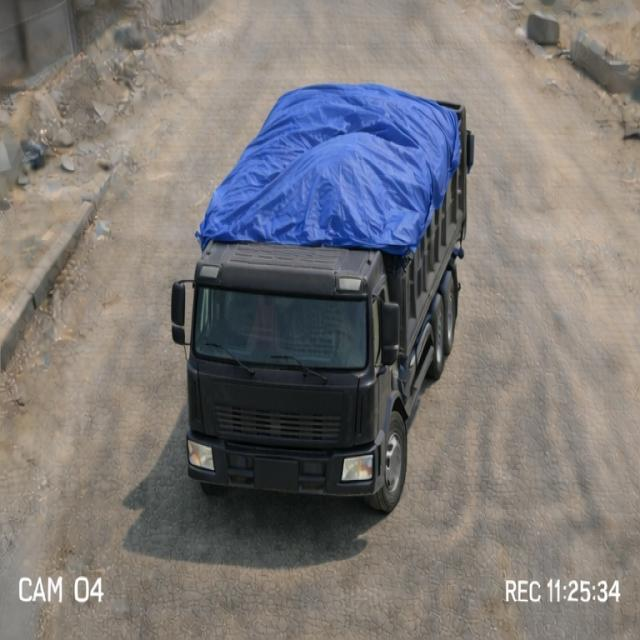Box: (205, 80, 480, 244)
Truck: (172, 73, 499, 519)
